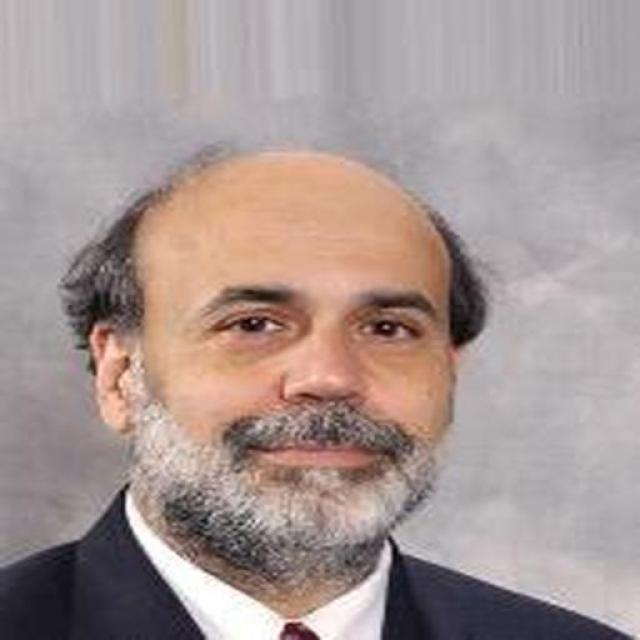bareface: (80, 170, 462, 558)
